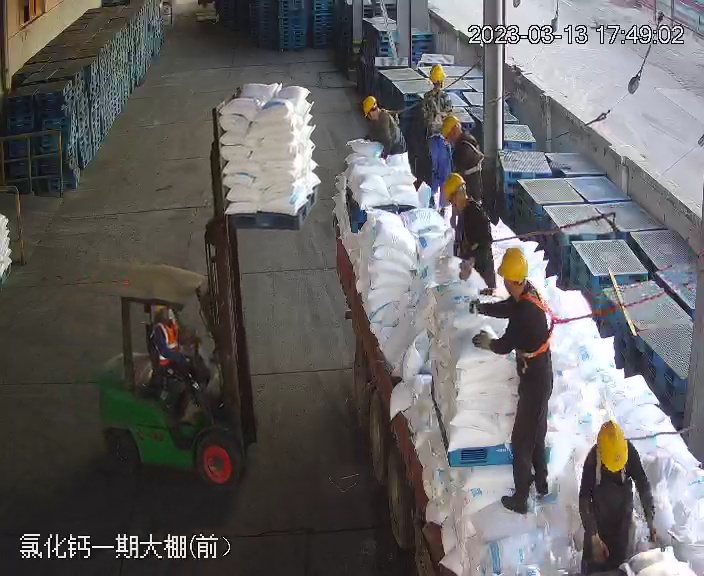belt: (512, 286, 568, 359), (459, 133, 490, 171), (452, 193, 489, 224), (422, 87, 449, 118), (377, 107, 403, 133)
head: (487, 246, 550, 322), (582, 420, 642, 487), (442, 173, 487, 222), (440, 115, 482, 157), (418, 64, 452, 104), (363, 96, 399, 133), (149, 304, 180, 339)
helmet: (595, 419, 628, 472), (495, 245, 530, 282), (442, 172, 466, 201), (439, 114, 461, 139), (427, 63, 445, 81), (363, 95, 378, 116)
people: (469, 246, 557, 518), (577, 420, 656, 576), (442, 172, 500, 293), (406, 62, 453, 203), (440, 123, 490, 232), (147, 303, 202, 401), (363, 95, 409, 162)
truck: (325, 82, 704, 576)
